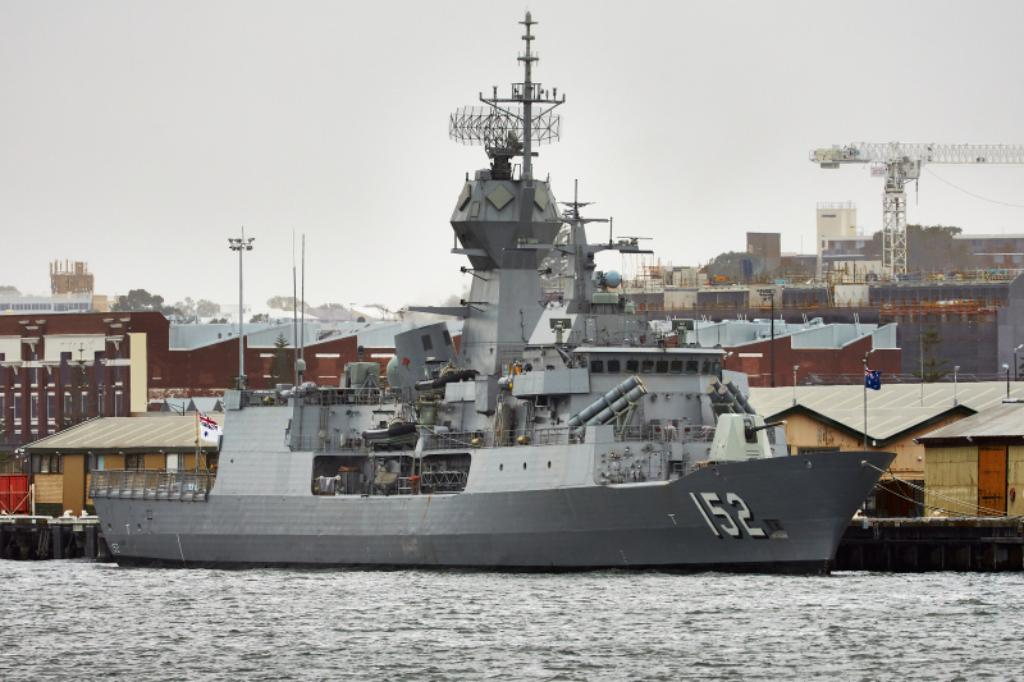Warship: (91, 12, 897, 576)
